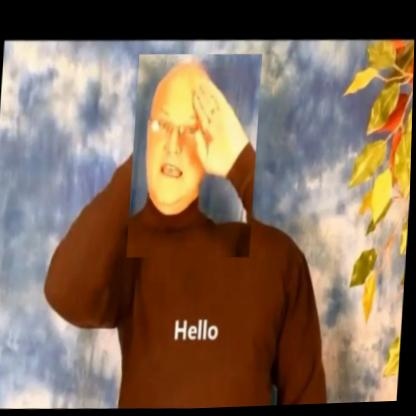Hello: (128, 52, 263, 263)
